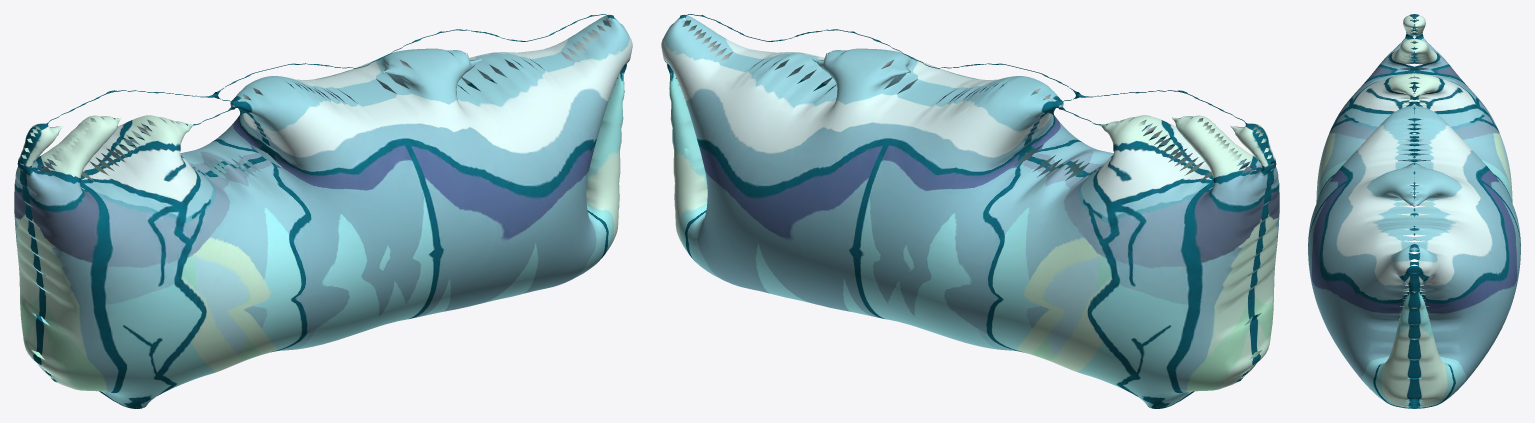
Rendered from broken_ice_wall.glb.
3 renders of one model, left to right at view 1: azimuth 30°, elevation 25°; view 2: azimuth 150°, elevation 25°; view 3: azimuth 270°, elevation 25°, orthographic. The views are drawn at different scales.
Parts seen in each view (by area): view 1: broken_ice_wall; view 2: broken_ice_wall; view 3: broken_ice_wall.
Boxes of the visible parts, x1,y1,x2,y2 form: broken_ice_wall: (14, 14, 632, 408); broken_ice_wall: (661, 14, 1279, 408); broken_ice_wall: (1308, 14, 1520, 408).
Bounding box in the file's own units: 0.9887 × 0.4627 × 0.4008.
1 material, 1 textured.
